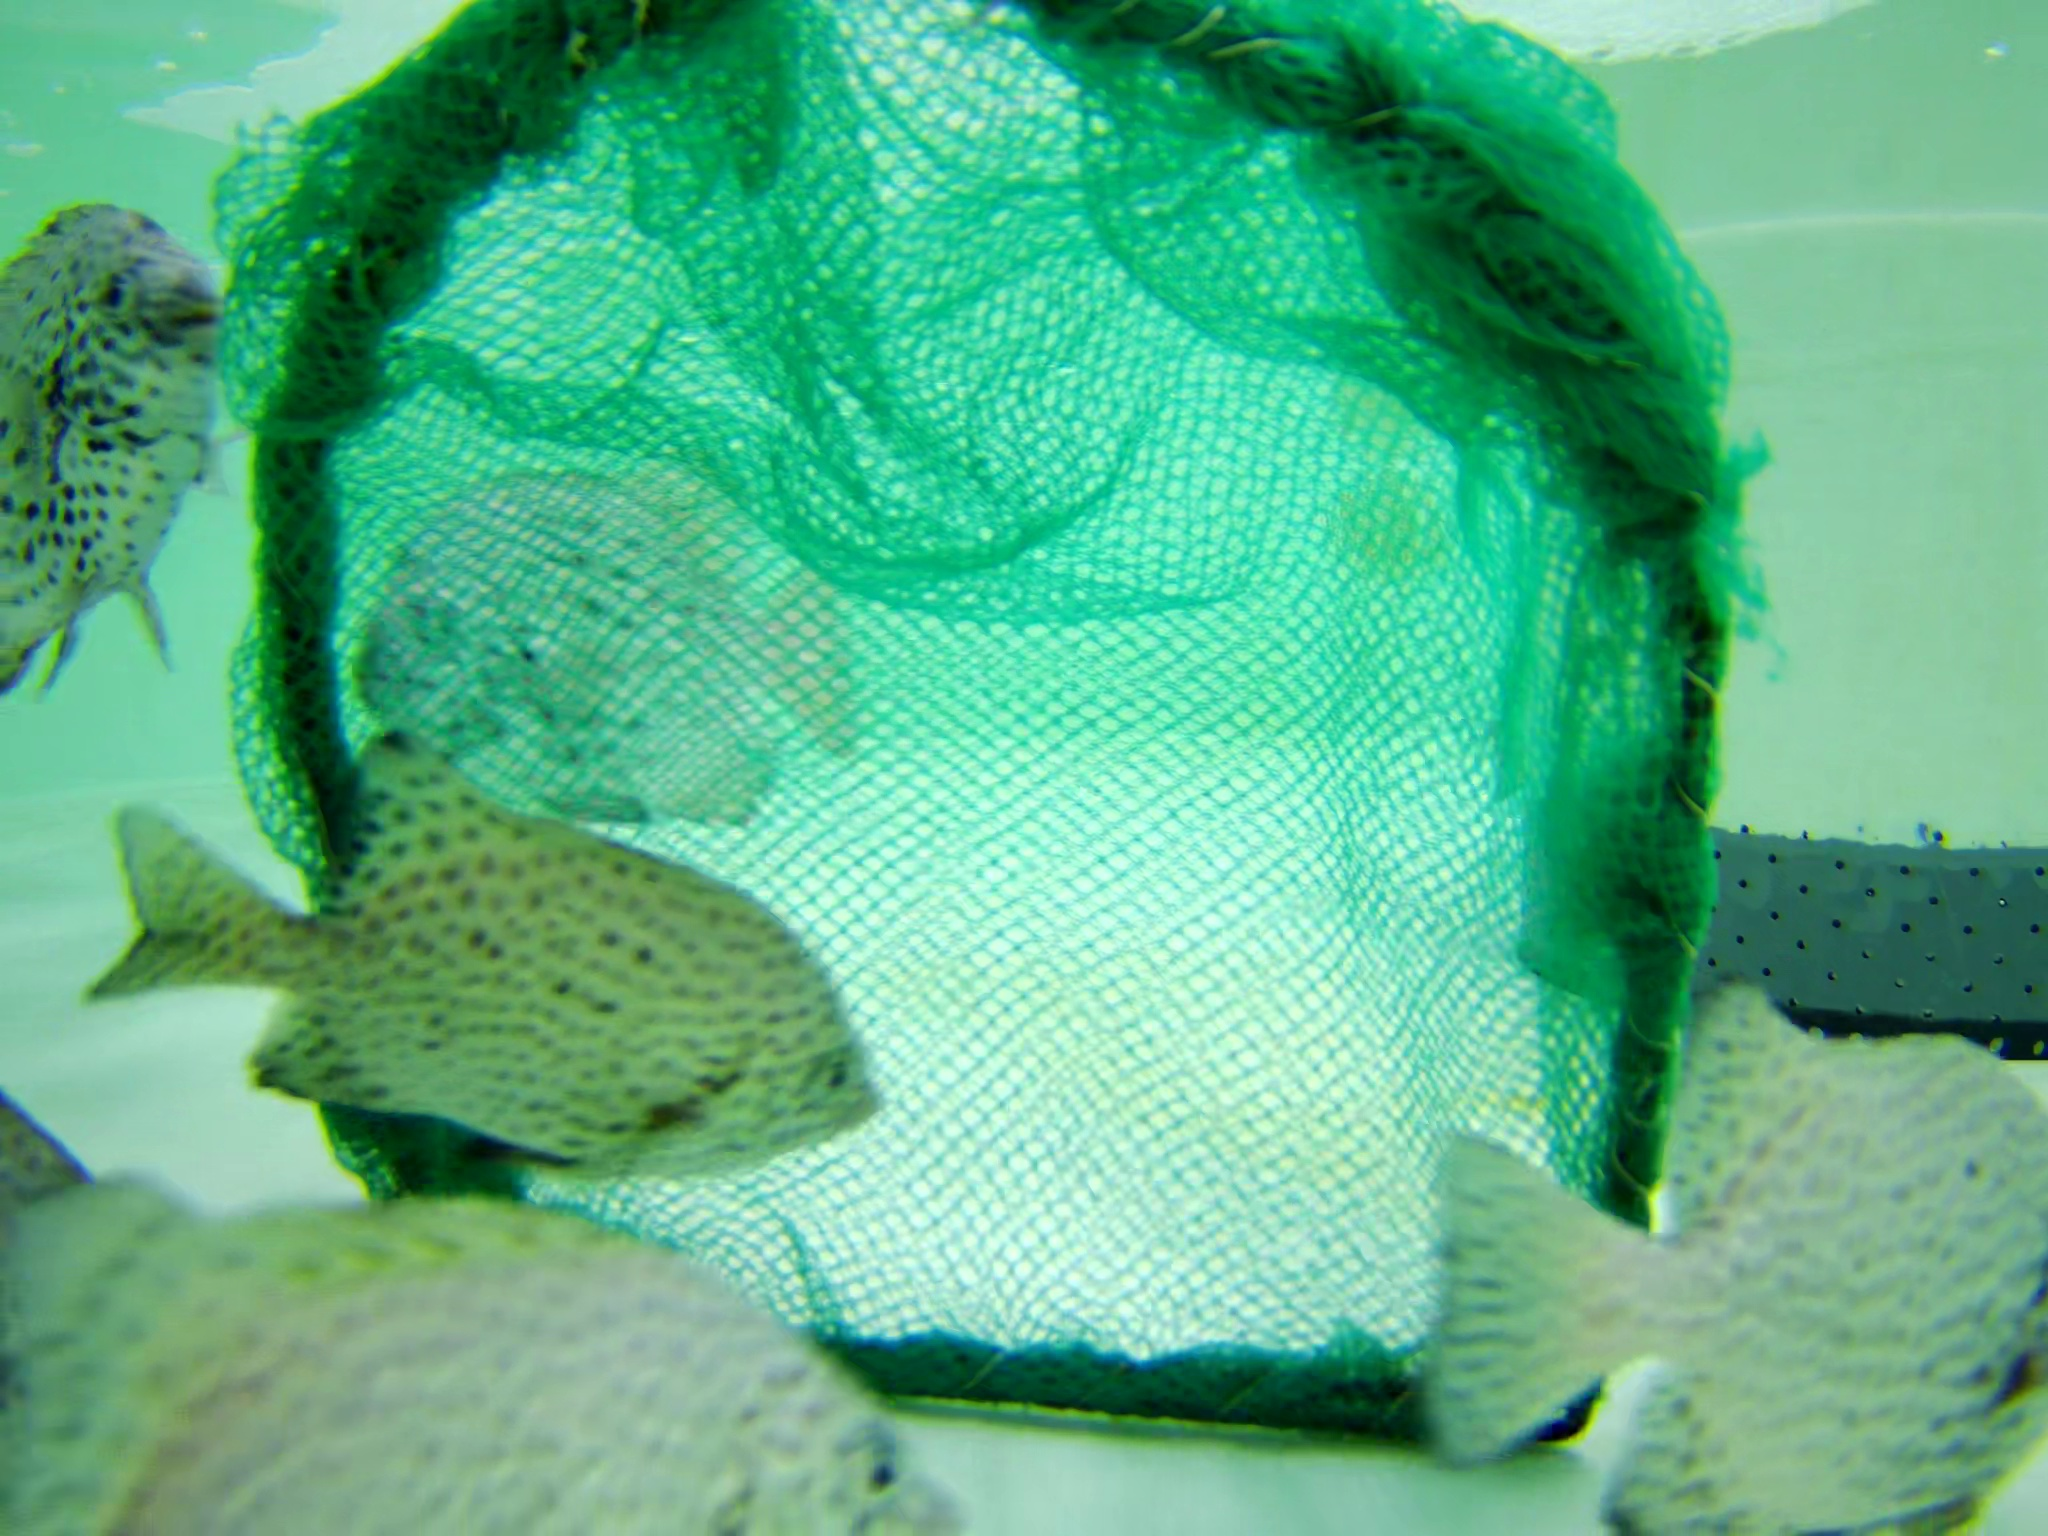fish: (2, 1081, 1006, 1536), (1385, 936, 2048, 1536), (106, 739, 887, 1176), (339, 473, 877, 841), (2, 195, 232, 702)
